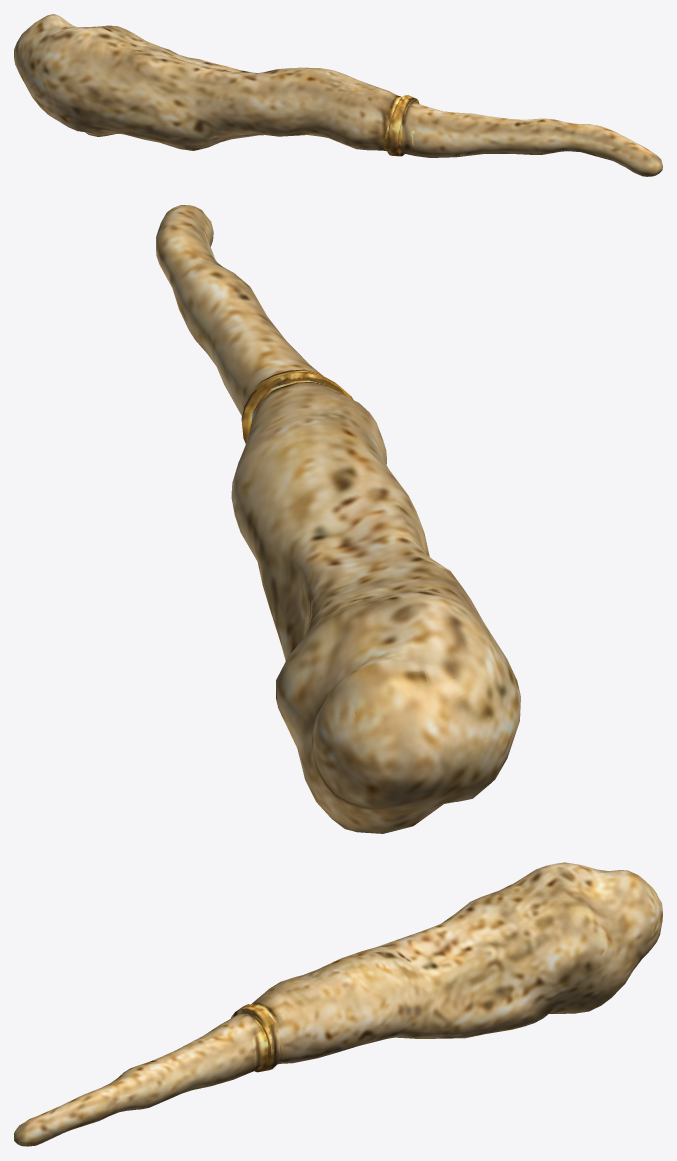
Rendered from item_mm9_10069.glb.
The picture shows the model from 3 angles, top to bottom: view 1: azimuth 30°, elevation 25°; view 2: azimuth 150°, elevation 25°; view 3: azimuth 270°, elevation 25°; orthographic projection. The views are drawn at different scales.
Visible parts, largest first — view 1: d10069; view 2: d10069; view 3: d10069.
Boxes of the visible parts, left/top/right/bottom form: d10069: left=14, top=14, right=662, bottom=176; d10069: left=156, top=205, right=520, bottom=833; d10069: left=14, top=862, right=662, bottom=1146.
Size of the model in its own units: 0.6622 by 0.1773 by 0.7885.
1 material, 1 textured.
